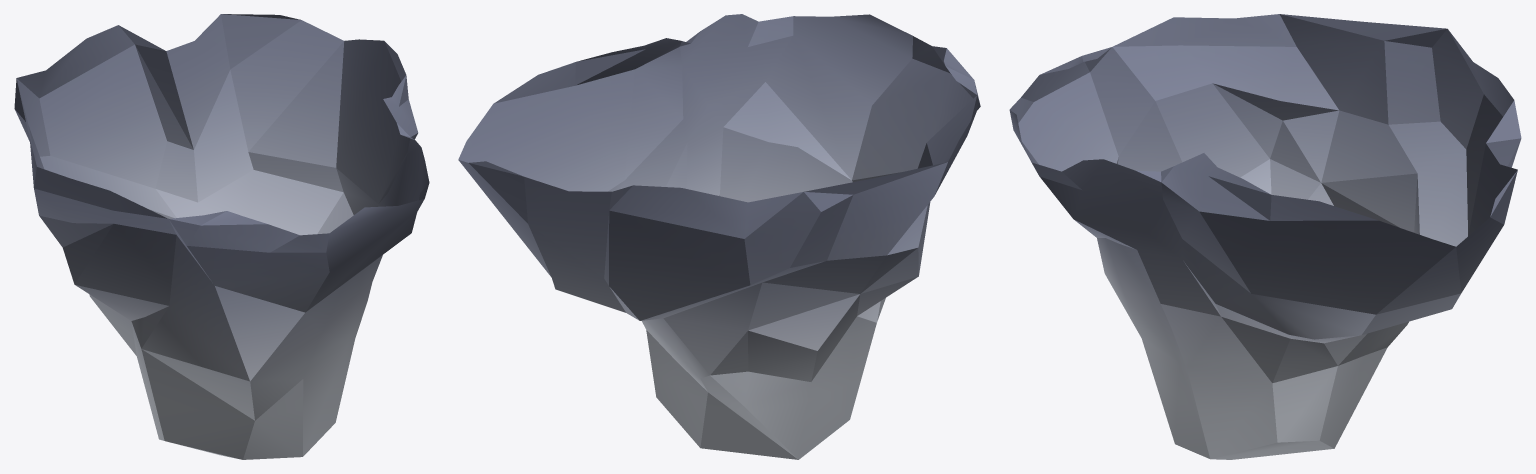
File: Terrain_Stage2_Decoration_1.fbx
3 renders of one model, left to right at view 1: azimuth 30°, elevation 25°; view 2: azimuth 150°, elevation 25°; view 3: azimuth 270°, elevation 25°, orthographic. The views are drawn at different scales.
Parts seen in each view (by area): view 1: terrain_bridge_401_LOD0; view 2: terrain_bridge_401_LOD0; view 3: terrain_bridge_401_LOD0.
Boxes of the visible parts, x1,y1,x2,y2 form: terrain_bridge_401_LOD0: (14,14,429,459); terrain_bridge_401_LOD0: (458,14,980,459); terrain_bridge_401_LOD0: (1009,14,1521,459).
Bounding box in the file's own units: 841 × 690 × 903.
1 material, 1 textured.
